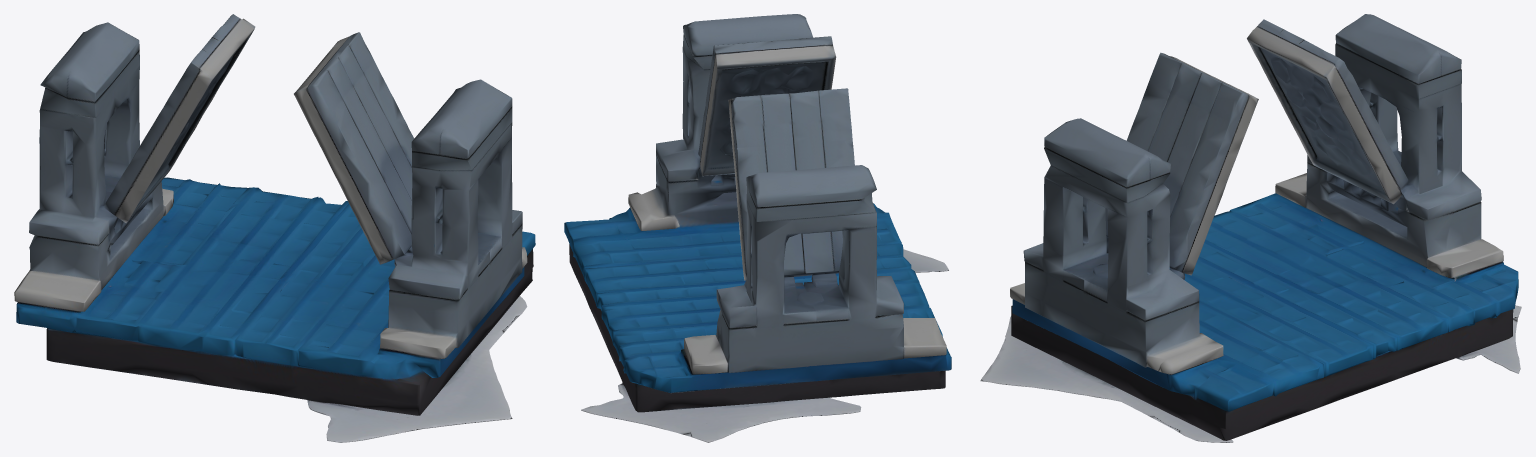
Rendered from bluewing.glb.
3 views of the same model, side by side, from view 1: azimuth 30°, elevation 25°; view 2: azimuth 150°, elevation 25°; view 3: azimuth 270°, elevation 25° (orthographic). The views are drawn at different scales.
Parts seen in each view (by area): view 1: tripo_node_143b607b-e2f7-487d-a380-64082f4c7e0c; view 2: tripo_node_143b607b-e2f7-487d-a380-64082f4c7e0c; view 3: tripo_node_143b607b-e2f7-487d-a380-64082f4c7e0c.
Part boxes in pixels (<box>): tripo_node_143b607b-e2f7-487d-a380-64082f4c7e0c: <box>14,14,535,442</box>; tripo_node_143b607b-e2f7-487d-a380-64082f4c7e0c: <box>564,14,951,442</box>; tripo_node_143b607b-e2f7-487d-a380-64082f4c7e0c: <box>980,14,1521,442</box>.
Bounding box in the file's own units: 0.9935 × 0.5909 × 1.03.
1 material, 1 textured.
